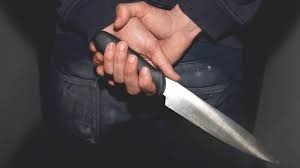knife: (91, 29, 280, 164)
